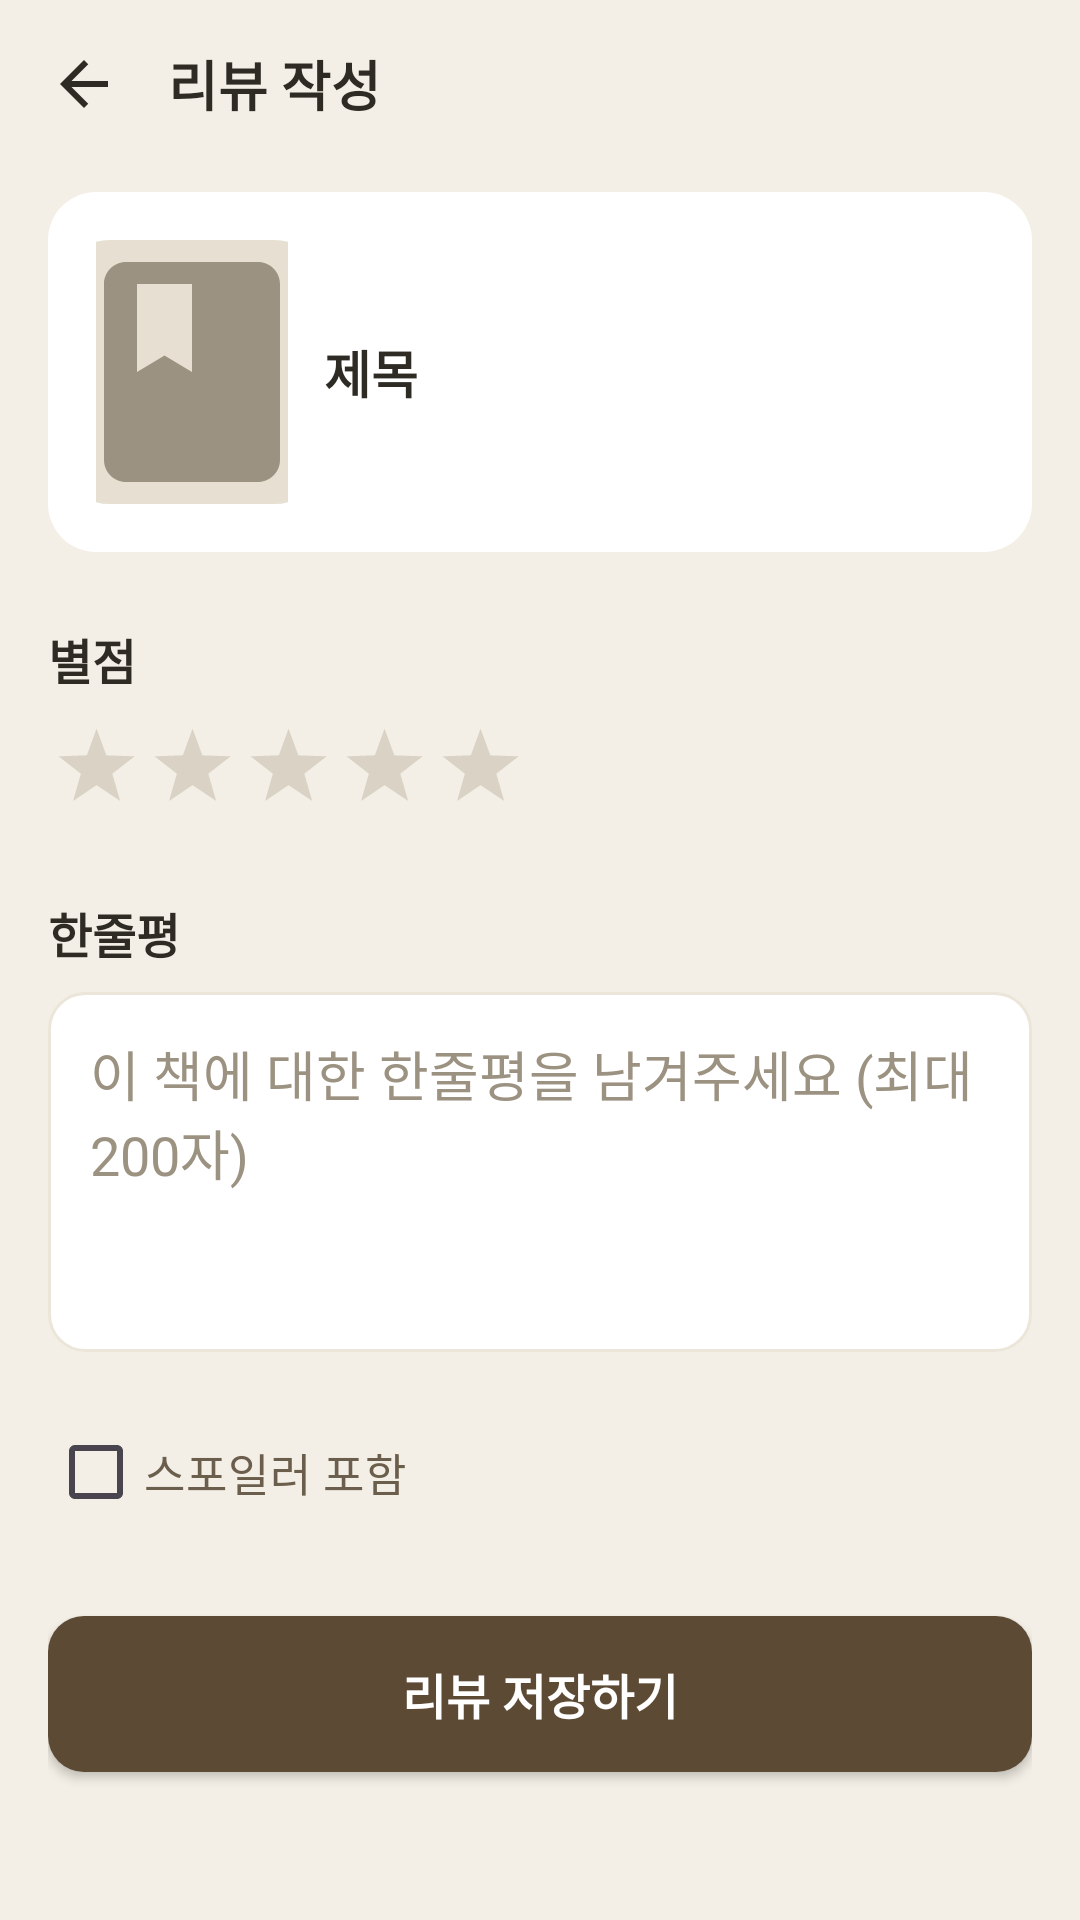

Locate icon controls on the screen. Image size 1080 × 1920, boxes as (x1, y1, x2, y2).
취소: (60, 60, 108, 108)
